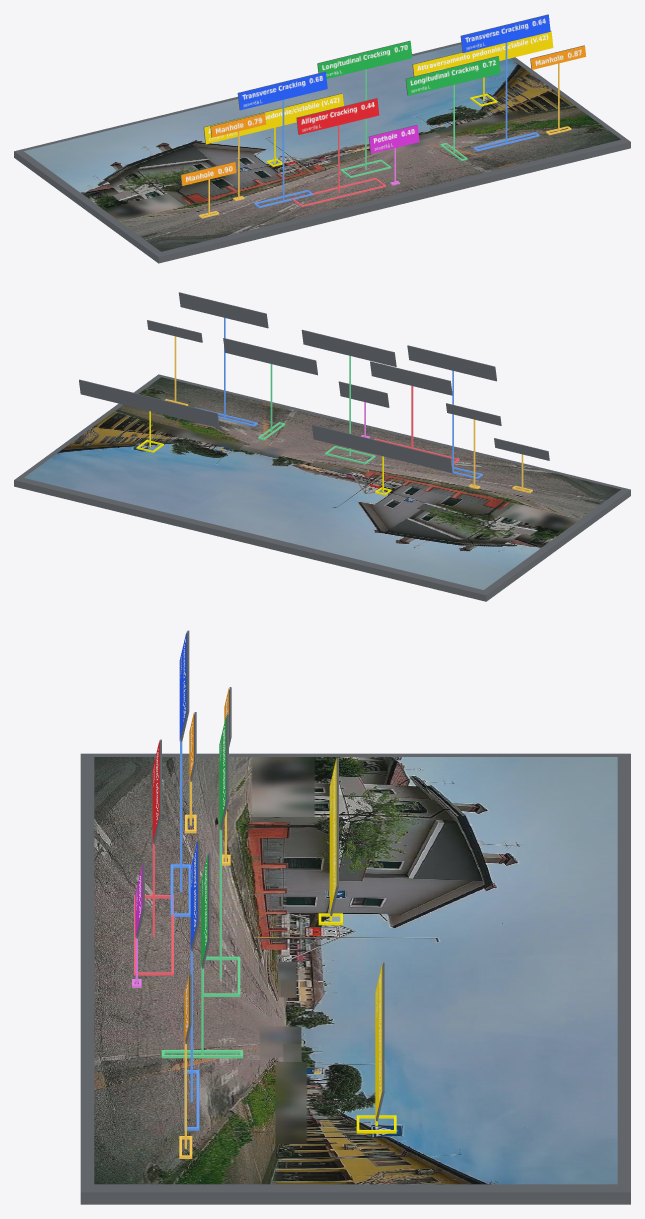
Rendered from tavolo_incrocio.glb.
3 views of the same model, one above another, from view 1: azimuth 30°, elevation 25°; view 2: azimuth 150°, elevation 25°; view 3: azimuth 270°, elevation 25° (orthographic). The views are drawn at different scales.
Visible parts, largest first — view 1: photo, base, det_9_label, det_7_label, det_3_label, det_5_label, det_2_label, det_8_label, det_4_label, det_6_label, det_0_label, det_10_label (+1 smaller); view 2: photo, base, det_9_back, det_3_back, det_7_back, det_5_back, det_8_back, det_2_back, det_4_back, det_6_back, det_0_back, det_10_back (+1 smaller); view 3: photo, base, det_3_label, det_9_label.
Part boxes in pixels (bbox=[...]): photo: bbox=[24, 44, 620, 251]; base: bbox=[14, 42, 630, 263]; det_9_label: bbox=[413, 31, 553, 76]; det_7_label: bbox=[406, 56, 500, 95]; det_3_label: bbox=[204, 93, 343, 144]; det_5_label: bbox=[318, 41, 412, 78]; det_2_label: bbox=[238, 72, 327, 110]; det_8_label: bbox=[461, 15, 550, 52]; det_4_label: bbox=[297, 98, 379, 134]; det_6_label: bbox=[369, 125, 419, 153]; det_0_label: bbox=[181, 162, 236, 185]; det_10_label: bbox=[531, 46, 585, 69]; photo: bbox=[24, 377, 620, 589]; base: bbox=[14, 374, 630, 601]; det_9_back: bbox=[79, 379, 219, 427]; det_3_back: bbox=[312, 424, 452, 472]; det_7_back: bbox=[223, 338, 317, 375]; det_5_back: bbox=[301, 329, 396, 366]; det_8_back: bbox=[178, 292, 268, 328]; det_2_back: bbox=[407, 345, 496, 381]; det_4_back: bbox=[370, 361, 452, 395]; det_6_back: bbox=[338, 381, 389, 407]; det_0_back: bbox=[494, 438, 549, 460]; det_10_back: bbox=[147, 320, 202, 342]; photo: bbox=[94, 757, 617, 1184]; base: bbox=[80, 753, 630, 1204]; det_3_label: bbox=[329, 758, 336, 914]; det_9_label: bbox=[375, 963, 382, 1119].
Size of the model in its own units: 0.616 by 0.1541 by 0.3662.
19 materials, 12 textured.
